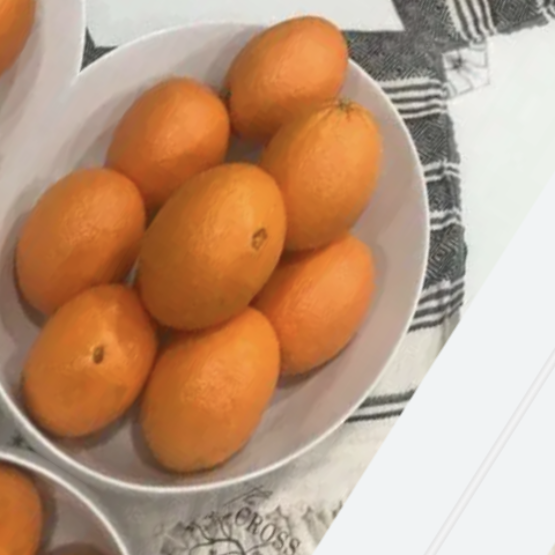orange: (107, 129, 323, 360), (104, 268, 315, 499), (213, 180, 429, 401), (0, 240, 195, 464), (0, 128, 177, 340), (202, 0, 379, 166)
